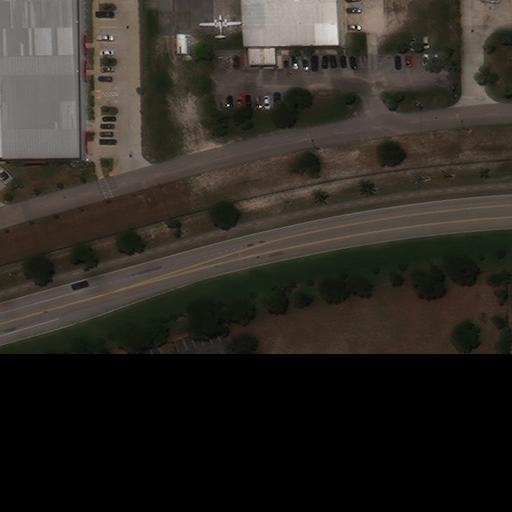Small Civil Transport: (198, 14, 241, 39)
